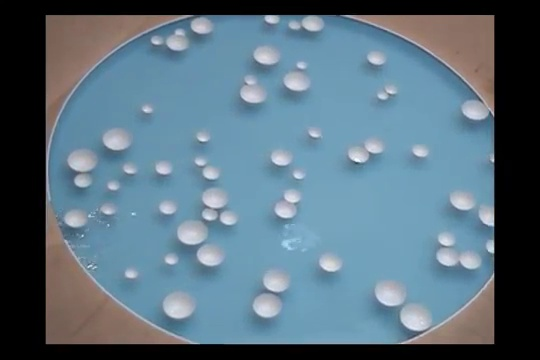bowl: (160, 290, 200, 321), (398, 301, 433, 332), (374, 278, 409, 308), (66, 146, 101, 172), (175, 219, 210, 245), (251, 293, 283, 320), (262, 266, 291, 293), (281, 71, 314, 94), (103, 127, 134, 151), (459, 99, 491, 122), (251, 44, 283, 66), (197, 244, 227, 266), (201, 187, 230, 209), (63, 207, 91, 229), (239, 84, 269, 104), (450, 189, 477, 211), (434, 247, 462, 268), (319, 250, 345, 272), (460, 249, 484, 272), (346, 144, 371, 165), (269, 147, 295, 167), (273, 201, 300, 219), (191, 15, 215, 35), (302, 14, 327, 32), (366, 48, 389, 67), (364, 136, 387, 154), (479, 201, 494, 228), (166, 36, 191, 52), (157, 198, 179, 216), (154, 159, 174, 177), (220, 209, 239, 227), (283, 188, 304, 204), (73, 173, 93, 189), (201, 165, 221, 181), (410, 142, 430, 158), (124, 265, 142, 282), (100, 201, 120, 216), (436, 231, 456, 246), (164, 250, 181, 267), (122, 160, 140, 175), (201, 208, 220, 222), (307, 125, 326, 139), (196, 130, 212, 145), (384, 81, 400, 96), (290, 166, 307, 180), (141, 103, 157, 117), (264, 14, 283, 25), (376, 90, 392, 103), (194, 154, 208, 168), (296, 59, 310, 73), (106, 178, 121, 191), (244, 73, 259, 86), (288, 18, 302, 29), (151, 34, 165, 45), (485, 239, 494, 255), (174, 28, 186, 36), (488, 153, 495, 166)
